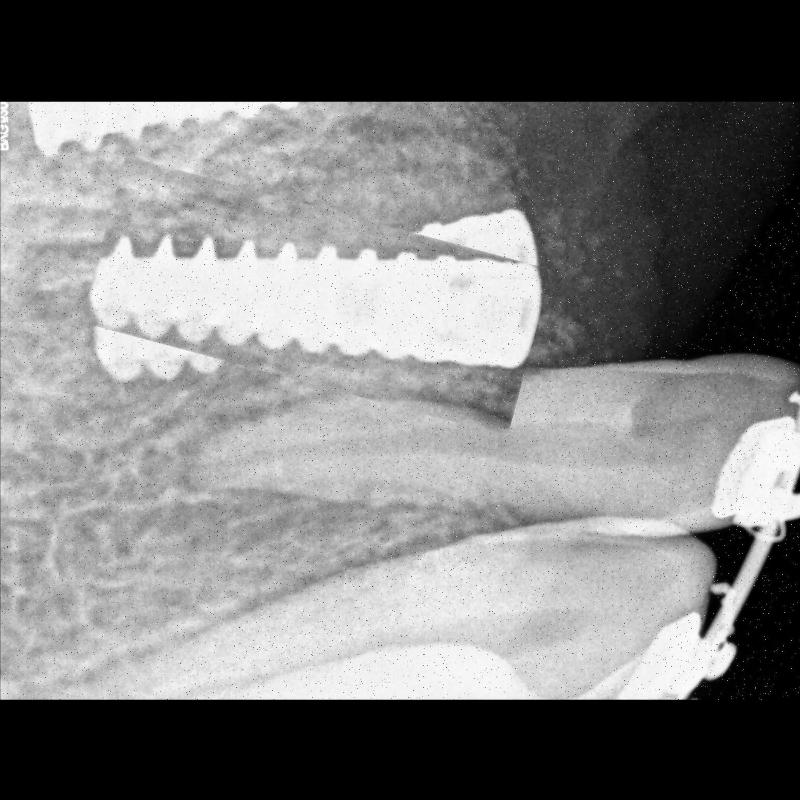ADIN: (89, 182, 545, 408)
